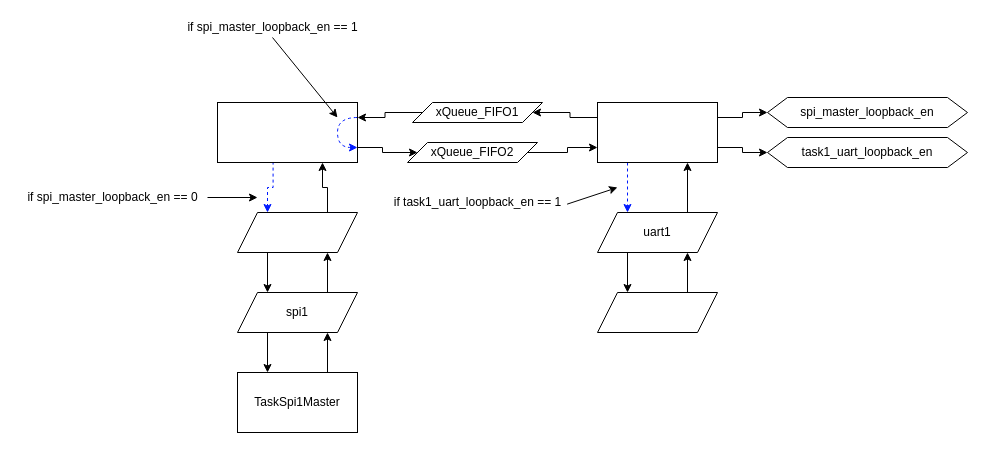
The diagram is 985 pixels wide and 450 high, and some of its shapes have lost their labels. Here are the shapes that lost their labels. From the top down, the box of each, then its label:
(216, 102, 358, 162): TaskSpi0Master
(596, 102, 718, 162): TaskUartManager
(236, 212, 358, 252): spi0
(596, 292, 718, 332): sdk terminal
